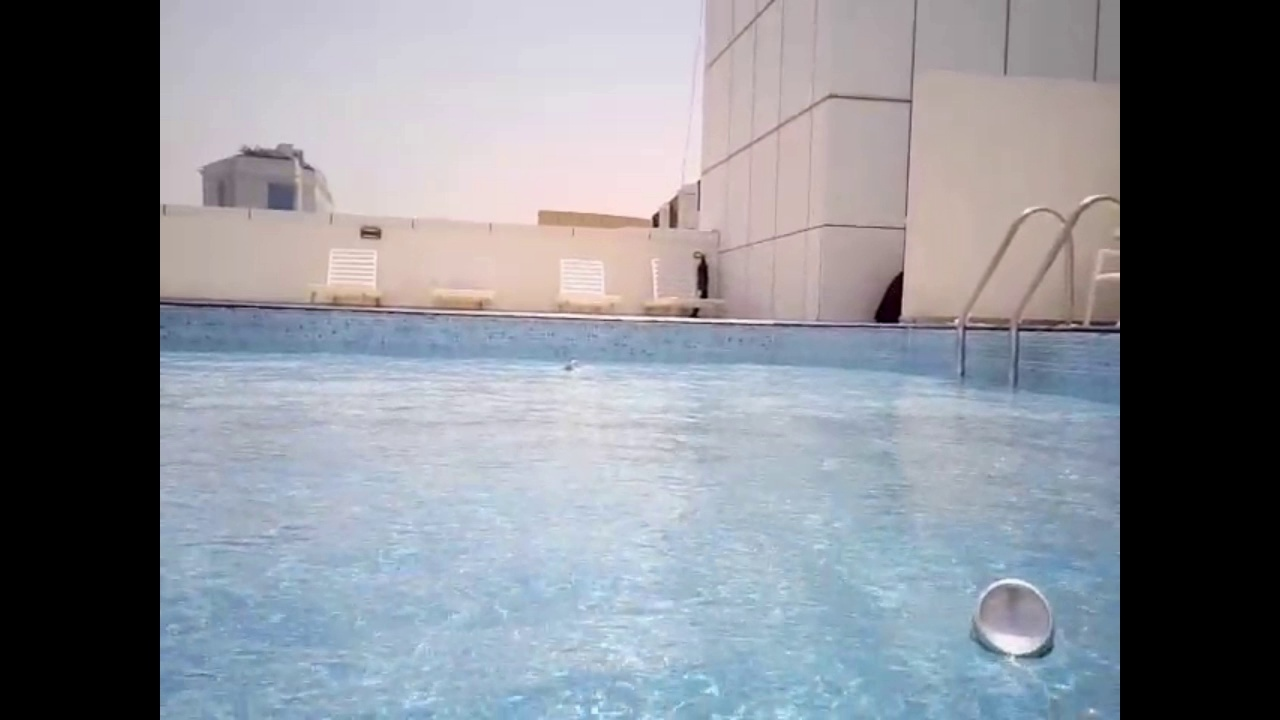debris: (956, 563, 1065, 670), (558, 358, 580, 375)
